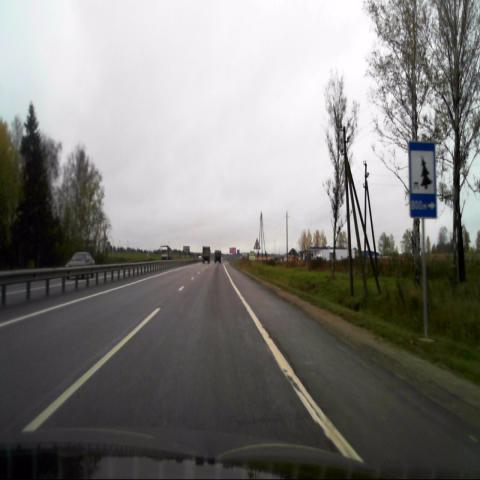7_11: (408, 142, 437, 218)
